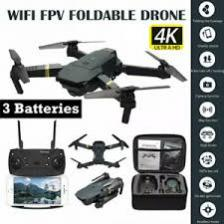drone: (6, 34, 189, 126), (70, 132, 129, 173)
